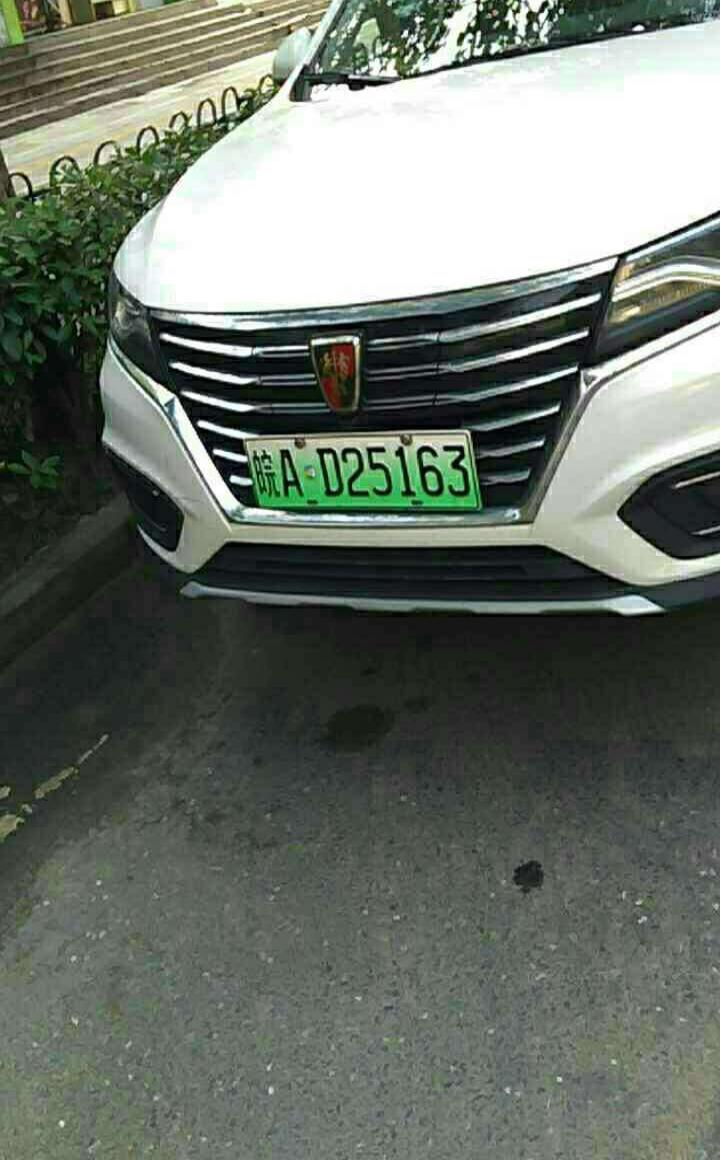car_id: (247, 434, 479, 508)
